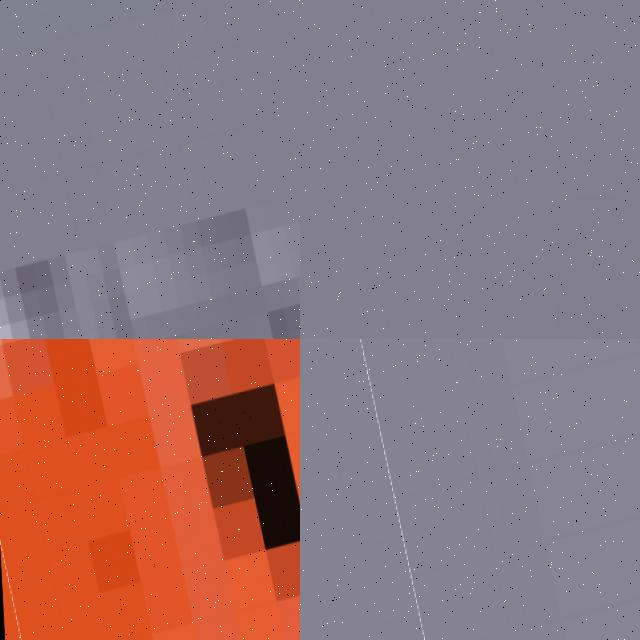drone: (0, 0, 300, 339), (326, 339, 640, 640), (0, 339, 300, 640)
